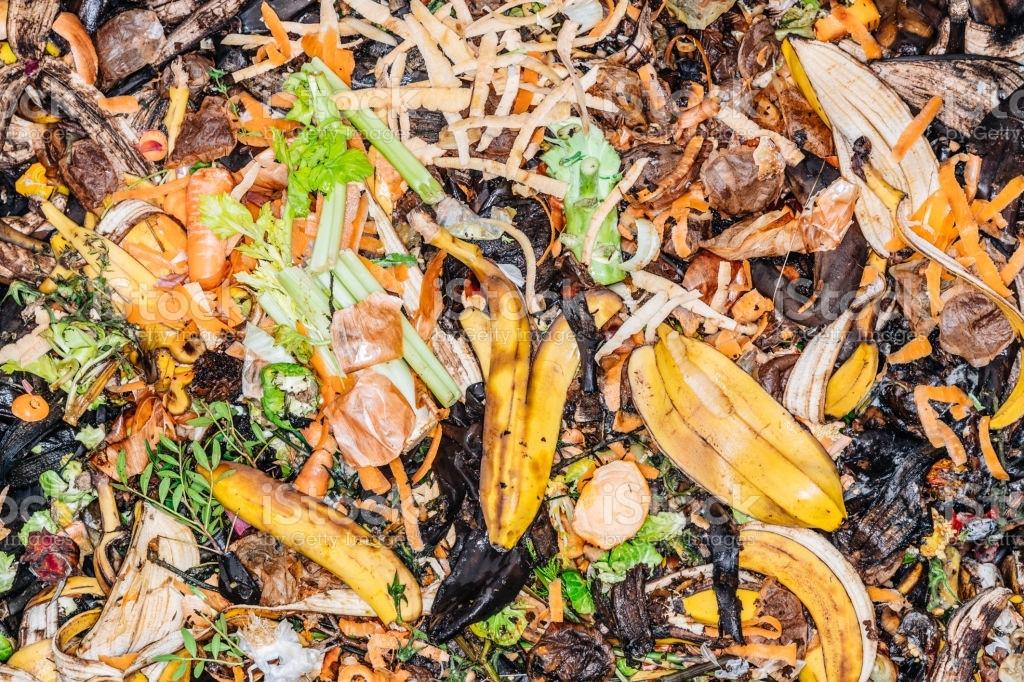kitchen_waste: (416, 212, 603, 564), (616, 317, 867, 549), (773, 26, 966, 266), (188, 444, 430, 635), (403, 1, 589, 188), (22, 185, 199, 355), (714, 509, 887, 682), (75, 471, 209, 682), (262, 57, 396, 217), (536, 121, 635, 287), (934, 152, 1019, 308), (904, 373, 1016, 490), (914, 578, 1018, 682), (179, 160, 242, 294), (816, 335, 890, 415), (880, 88, 956, 165)
